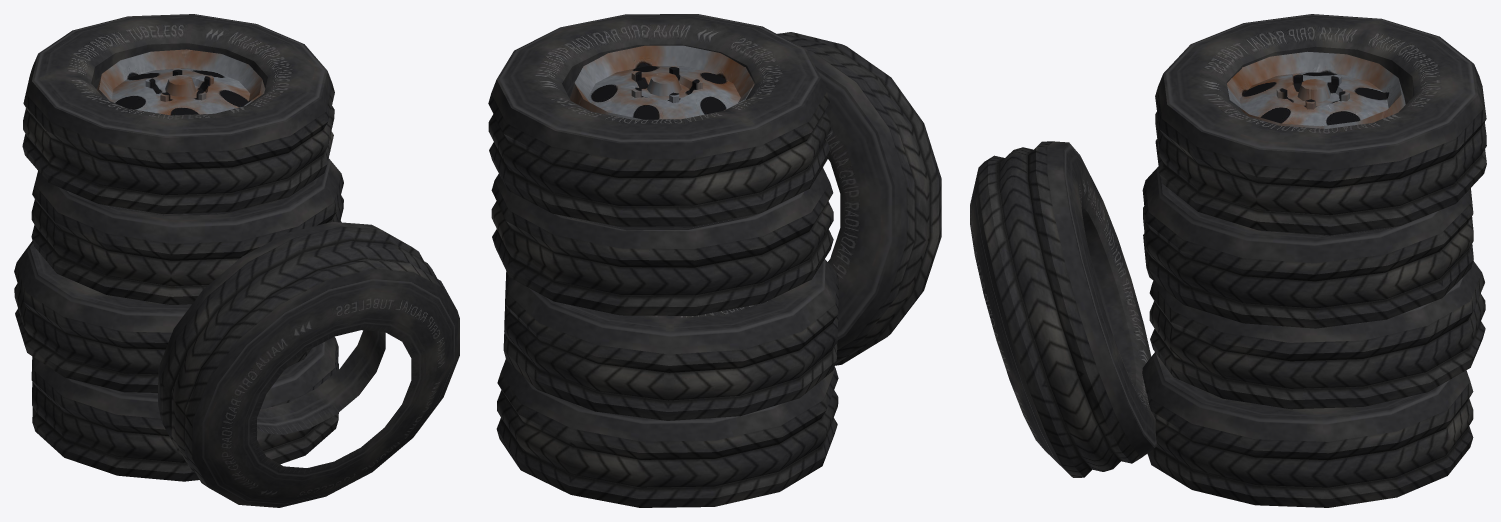
File: env_tyrestack.glb
3 renders of one model, left to right at view 1: azimuth 30°, elevation 25°; view 2: azimuth 150°, elevation 25°; view 3: azimuth 270°, elevation 25°, orthographic. The views are drawn at different scales.
Parts seen in each view (by area): view 1: env_tyrestack_body; view 2: env_tyrestack_body; view 3: env_tyrestack_body.
Boxes of the visible parts, x1,y1,x2,y2 form: env_tyrestack_body: (14,14,459,507); env_tyrestack_body: (488,14,941,507); env_tyrestack_body: (970,14,1486,507).
Size of the model in its own units: 0.7166 by 0.8434 by 1.03.
1 material, 1 textured.
